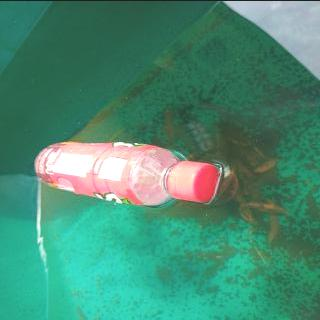bottle: (31, 140, 220, 207)
